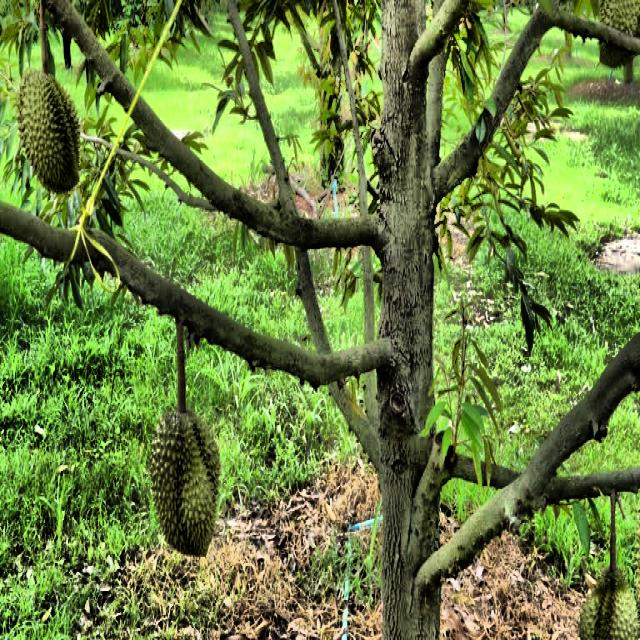arvore: (350, 10, 459, 640)
